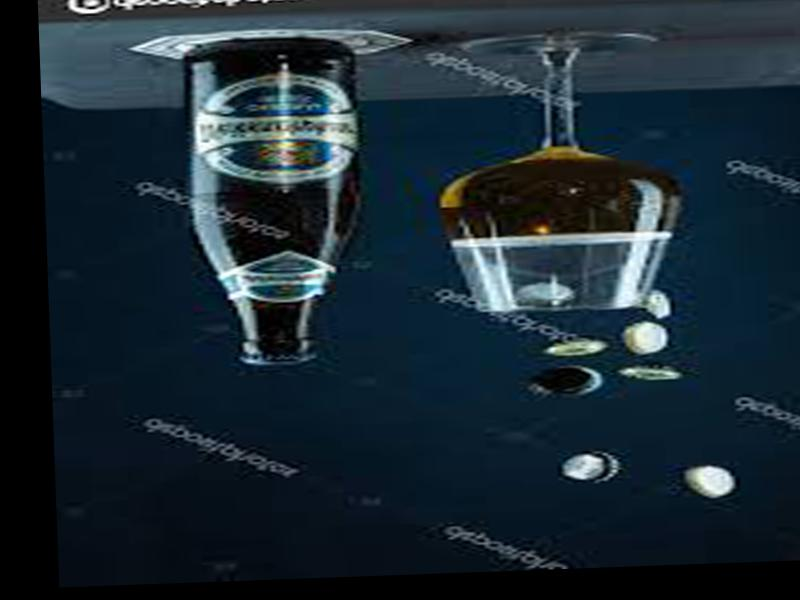Beer: (188, 39, 361, 364)
